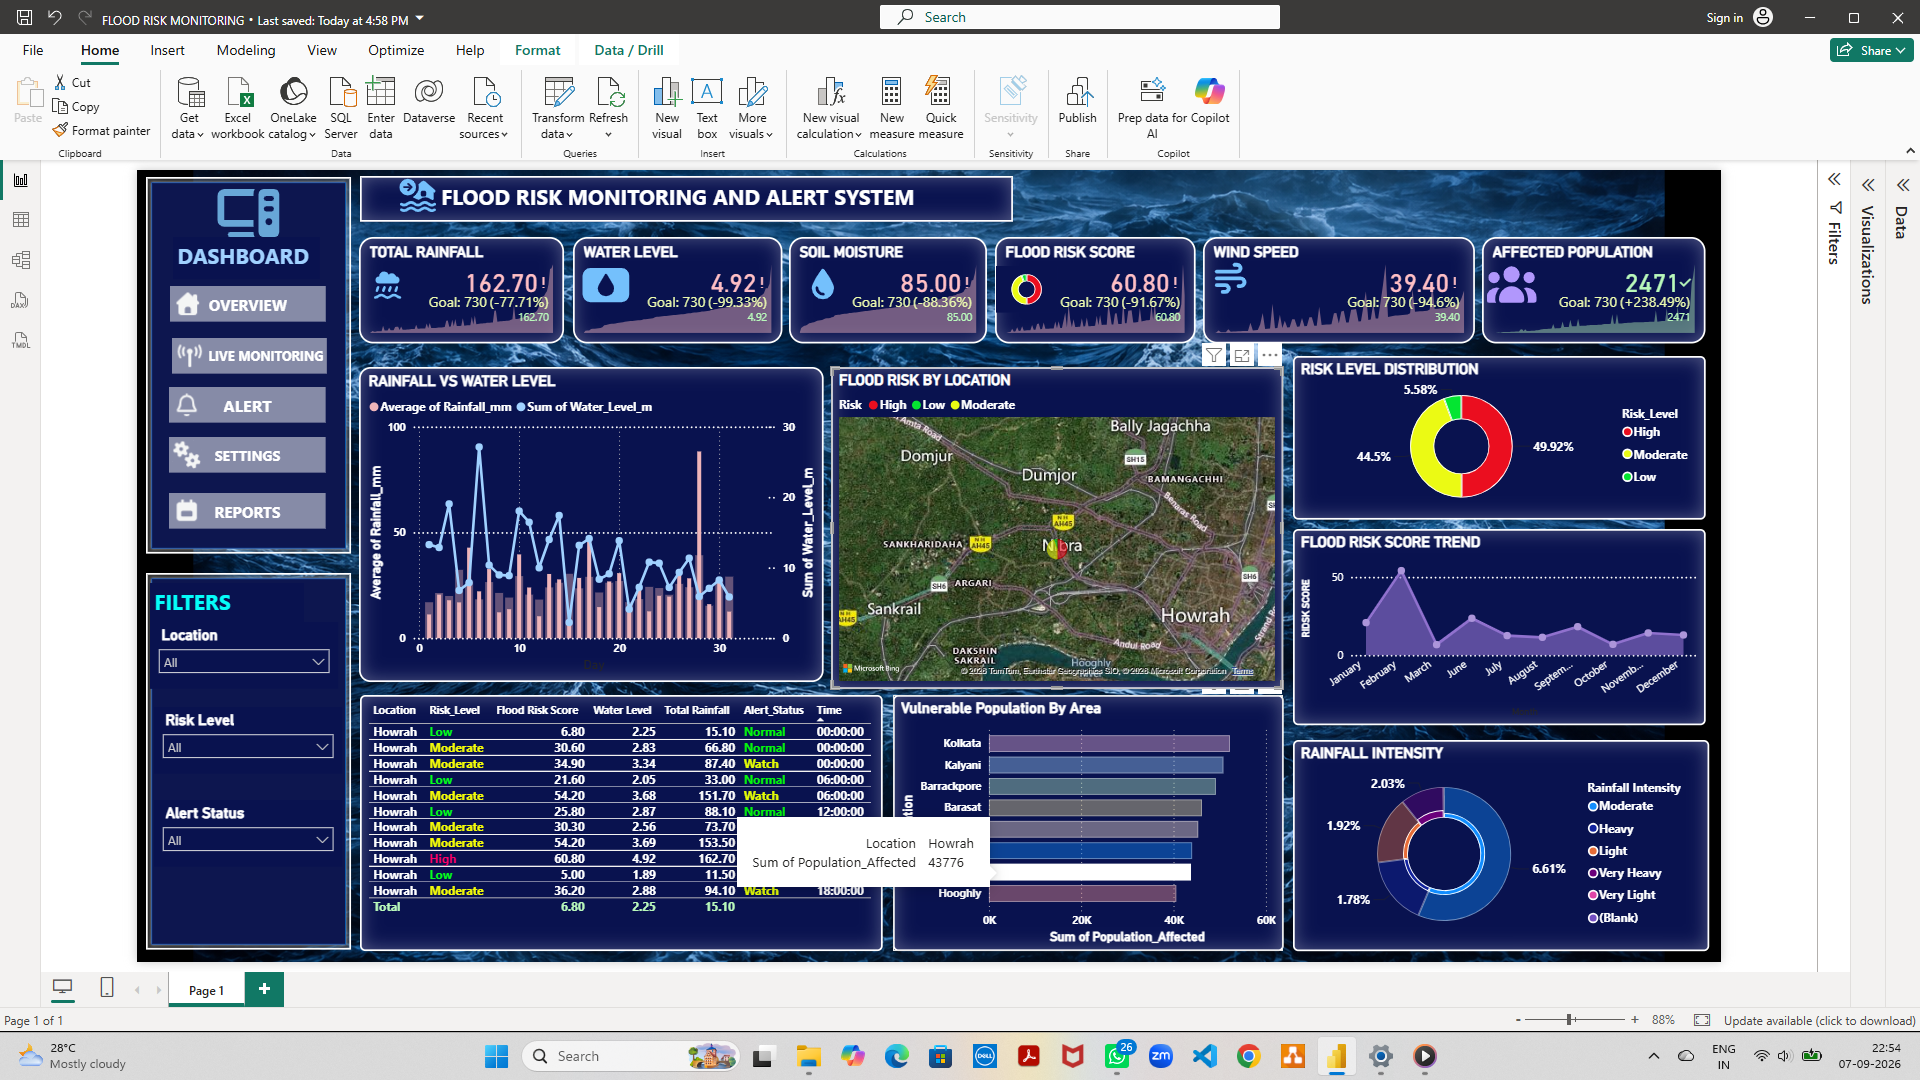

Layout of this report page (visuals, bound fields, positions):
{"tool":"powerbi","page":{"name":"Page 1","canvas":[1800,900],"ordinal":0},"visuals":[{"type":"textbox","box":[253.6,7.1,742.2,52.3],"z":0},{"type":"stackedAreaChart","title":"FLOOD RISK SCORE TREND","fields":{"Category":["Smart_Flood_Risk_Dataset.Date.Variation.Date Hierarchy.Month"],"Y":["Smart_Flood_Risk_Dataset.Flood Risk Score"]},"box":[1313.8,407.5,468.8,222.5],"z":1000},{"type":"donutChart","title":"RISK LEVEL DISTRIBUTION","fields":{"Category":["Smart_Flood_Risk_Dataset.Risk_Level"],"Y":["Smart_Flood_Risk_Dataset.Flood Risk Score"]},"box":[1313.8,211.2,468.8,186.2],"z":2000},{"type":"donutChart","title":"RAINFALL INTENSITY","fields":{"Y":["Sum(Smart_Flood_Risk_Dataset.Rainfall_mm)"],"Category":["Smart_Flood_Risk_Dataset.Rainfall Intensity"]},"box":[1313.8,647.5,472.5,240],"z":3000},{"type":"lineClusteredColumnComboChart","title":"RAINFALL VS WATER LEVEL","fields":{"Y":["Avg(Smart_Flood_Risk_Dataset.Rainfall_mm)"],"Category":["Smart_Flood_Risk_Dataset.Date.Variation.Date Hierarchy.Day"],"Y2":["Sum(Smart_Flood_Risk_Dataset.Water_Level_m)"]},"box":[252.5,223.8,527.5,357.5],"z":4000},{"type":"tableEx","fields":{"Values":["Smart_Flood_Risk_Dataset.Location","Smart_Flood_Risk_Dataset.Risk_Level","Smart_Flood_Risk_Dataset.Flood Risk Score","Smart_Flood_Risk_Dataset.Water Level","Smart_Flood_Risk_Dataset.Total Rainfall","Smart_Flood_Risk_Dataset.Alert_Status","Smart_Flood_Risk_Dataset.Time"]},"box":[253.8,596.2,593.8,291.2],"z":5000},{"type":"barChart","title":"Vulnerable Population By Area","fields":{"Y":["Sum(Smart_Flood_Risk_Dataset.Population_Affected)"],"Category":["Smart_Flood_Risk_Dataset.Location"]},"box":[858.8,596.2,443.8,291.2],"z":6000},{"type":"map","title":"FLOOD RISK BY LOCATION","fields":{"Category":["Smart_Flood_Risk_Dataset.Location"],"Y":["Avg(Smart_Flood_Risk_Dataset.Latitude)"],"X":["Avg(Smart_Flood_Risk_Dataset.Longitude)"],"Series":["Smart_Flood_Risk_Dataset.Risk_Level"],"Size":["Smart_Flood_Risk_Dataset.Flood Risk Score"]},"box":[788.8,223.8,513.8,366.2],"z":7000},{"type":"kpi","title":"TOTAL RAINFALL","fields":{"Indicator":["Sum(Smart_Flood_Risk_Dataset.Rainfall_mm)"],"TrendLine":["Smart_Flood_Risk_Dataset.Rainfall_mm"],"Goal":["CountNonNull(Smart_Flood_Risk_Dataset.Date.Variation.Date Hierarchy.Day)"]},"box":[252.5,76.2,232.5,121.2],"z":8000},{"type":"kpi","title":"WATER LEVEL ","fields":{"Indicator":["Avg(Smart_Flood_Risk_Dataset.Water_Level_m)"],"TrendLine":["Smart_Flood_Risk_Dataset.Water_Level_m"],"Goal":["CountNonNull(Smart_Flood_Risk_Dataset.Date.Variation.Date Hierarchy.Day)"]},"box":[495,76.2,237.5,121.2],"z":9000},{"type":"kpi","title":"SOIL MOISTURE","fields":{"Indicator":["Avg(Smart_Flood_Risk_Dataset.Soil_Moisture_pct)"],"TrendLine":["Smart_Flood_Risk_Dataset.Soil_Moisture_pct"],"Goal":["CountNonNull(Smart_Flood_Risk_Dataset.Date.Variation.Date Hierarchy.Day)"]},"box":[741.2,76.2,225,121.2],"z":10000},{"type":"kpi","title":"FLOOD RISK SCORE","fields":{"Indicator":["Sum(Smart_Flood_Risk_Dataset.Flood_Risk_Score)"],"Goal":["CountNonNull(Smart_Flood_Risk_Dataset.Date.Variation.Date Hierarchy.Day)"],"TrendLine":["Smart_Flood_Risk_Dataset.Flood_Risk_Score"]},"box":[975,76.2,227.5,121.2],"z":11000},{"type":"kpi","title":"WIND SPEED","fields":{"Indicator":["Sum(Smart_Flood_Risk_Dataset.Wind_Speed_kmh)"],"TrendLine":["Smart_Flood_Risk_Dataset.Wind_Speed_kmh"],"Goal":["CountNonNull(Smart_Flood_Risk_Dataset.Date.Variation.Date Hierarchy.Day)"]},"box":[1211.2,76.2,308.8,121.2],"z":12000},{"type":"kpi","title":"AFFECTED POPULATION","fields":{"Indicator":["Sum(Smart_Flood_Risk_Dataset.Population_Affected)"],"TrendLine":["Smart_Flood_Risk_Dataset.Population_Affected"],"Goal":["CountNonNull(Smart_Flood_Risk_Dataset.Date.Variation.Date Hierarchy.Day)"]},"box":[1528.8,76.2,253.8,121.2],"z":13000},{"type":"shape","box":[9.9,7.4,233.3,428.4],"z":14000},{"type":"shape","box":[9.9,458,233.3,428.4],"z":15000},{"type":"image","box":[87.7,0,77.8,97.5],"z":16000},{"type":"textbox","box":[40.7,76.5,166.7,48.1],"z":17000},{"type":"textbox","box":[15.2,469.6,174.7,49.4],"z":18000},{"type":"slicer","fields":{"Values":["Smart_Flood_Risk_Dataset.Location"]},"box":[15.2,513.9,213.9,75.9],"z":19000},{"type":"slicer","fields":{"Values":["Smart_Flood_Risk_Dataset.Risk_Level"]},"box":[19,610.1,213.9,75.9],"z":20000},{"type":"slicer","fields":{"Values":["Smart_Flood_Risk_Dataset.Alert_Status"]},"box":[19,716.5,213.9,75.9],"z":21000},{"type":"image","box":[284.8,7.6,68.4,41.8],"z":22000},{"type":"image","box":[753.2,108.9,51.9,41.8],"z":23000},{"type":"image","box":[503.8,84.8,59.5,93.7],"z":24000},{"type":"image","box":[251.9,111.4,64.6,39.2],"z":25000},{"type":"image","box":[1202.5,101.3,81,44.3],"z":26000},{"type":"donutChart","title":"RISK LEVEL DISTRIBUTION","fields":{"Category":["Smart_Flood_Risk_Dataset.Risk_Level"],"Y":["Smart_Flood_Risk_Dataset.Flood Risk Score"]},"box":[975.9,108.9,69.6,53.2],"z":27000},{"type":"image","box":[1529.1,102.5,64.6,57],"z":28000},{"type":"actionButton","box":[38,131.6,177.2,40.5],"z":29000},{"type":"actionButton","box":[39.2,191.1,175.9,40.5],"z":30000},{"type":"actionButton","box":[36.7,246.8,178.5,40.5],"z":31000},{"type":"actionButton","box":[36.7,303.8,178.5,40.5],"z":32000},{"type":"actionButton","box":[36.7,367.1,178.5,40.5],"z":33000}]}

Visuals, with their boxes on the page's 1800x900 design canvas (x1, y1, x2, y2). These are canvas units, not pixel positions in the 1920x1080 screenshot, which may show the page scaled, cropped or inside an application window:
textbox: 254, 7, 996, 59
"FLOOD RISK SCORE TREND" stackedAreaChart: 1314, 408, 1783, 630
"RISK LEVEL DISTRIBUTION" donutChart: 1314, 211, 1783, 397
"RAINFALL INTENSITY" donutChart: 1314, 648, 1786, 888
"RAINFALL VS WATER LEVEL" lineClusteredColumnComboChart: 252, 224, 780, 581
tableEx - Smart_Flood_Risk_Dataset.Location x Smart_Flood_Risk_Dataset.Risk_Level: 254, 596, 848, 887
"Vulnerable Population By Area" barChart: 859, 596, 1303, 887
"FLOOD RISK BY LOCATION" map: 789, 224, 1303, 590
"TOTAL RAINFALL" kpi: 252, 76, 485, 197
"WATER LEVEL " kpi: 495, 76, 732, 197
"SOIL MOISTURE" kpi: 741, 76, 966, 197
"FLOOD RISK SCORE" kpi: 975, 76, 1202, 197
"WIND SPEED" kpi: 1211, 76, 1520, 197
"AFFECTED POPULATION" kpi: 1529, 76, 1783, 197
shape: 10, 7, 243, 436
shape: 10, 458, 243, 886
image: 88, 0, 166, 98
textbox: 41, 76, 207, 125
textbox: 15, 470, 190, 519
slicer - Smart_Flood_Risk_Dataset.Location: 15, 514, 229, 590
slicer - Smart_Flood_Risk_Dataset.Risk_Level: 19, 610, 233, 686
slicer - Smart_Flood_Risk_Dataset.Alert_Status: 19, 716, 233, 792
image: 285, 8, 353, 49
image: 753, 109, 805, 151
image: 504, 85, 563, 178
image: 252, 111, 316, 151
image: 1202, 101, 1284, 146
"RISK LEVEL DISTRIBUTION" donutChart: 976, 109, 1046, 162
image: 1529, 102, 1594, 160
actionButton: 38, 132, 215, 172
actionButton: 39, 191, 215, 232
actionButton: 37, 247, 215, 287
actionButton: 37, 304, 215, 344
actionButton: 37, 367, 215, 408
